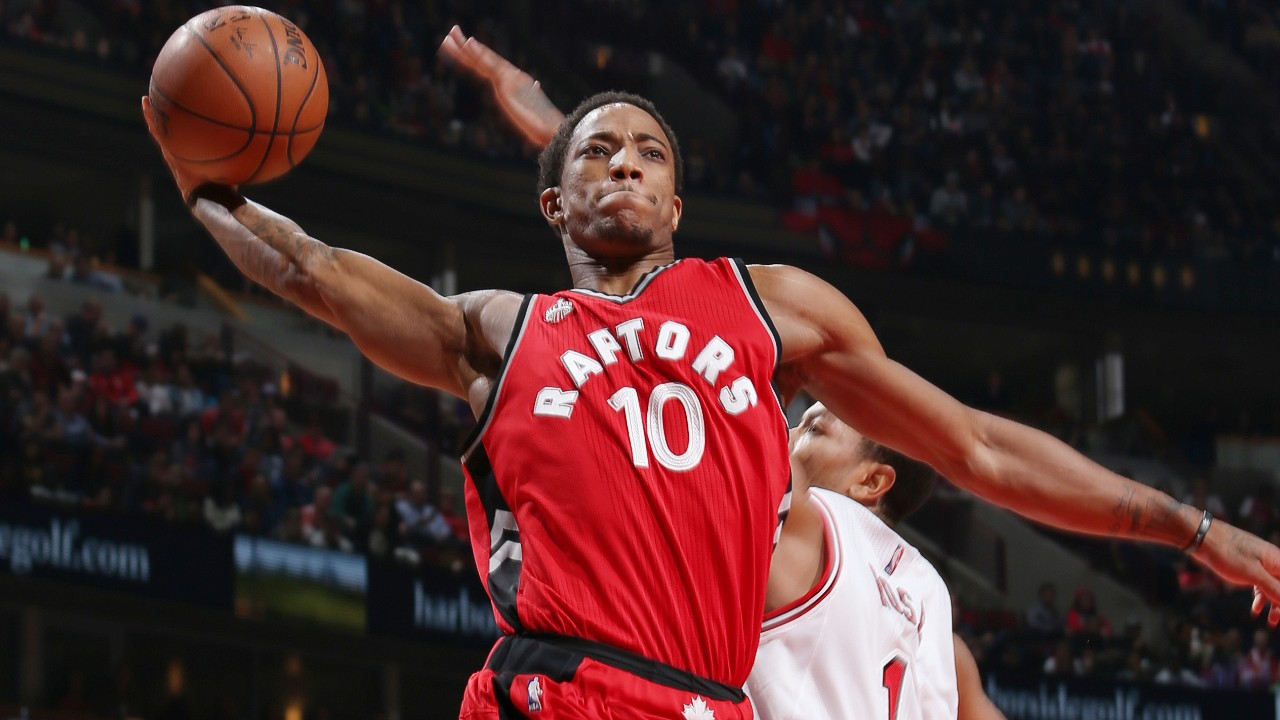basketball: (144, 1, 335, 179)
